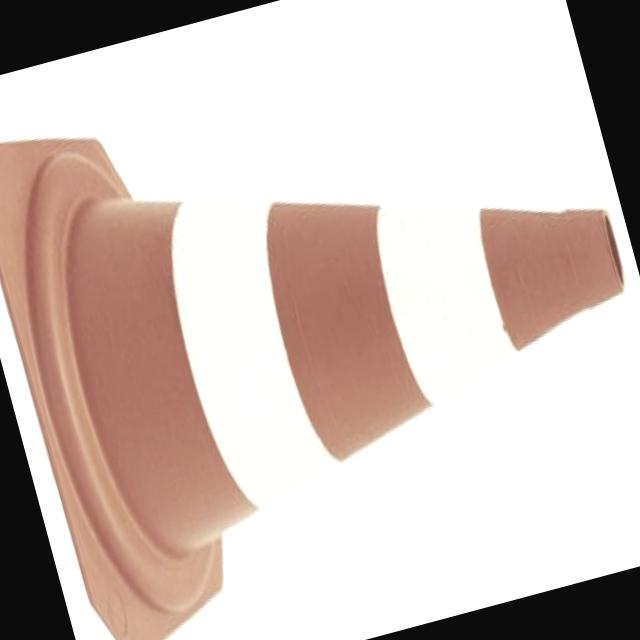cone: (0, 11, 640, 615)
